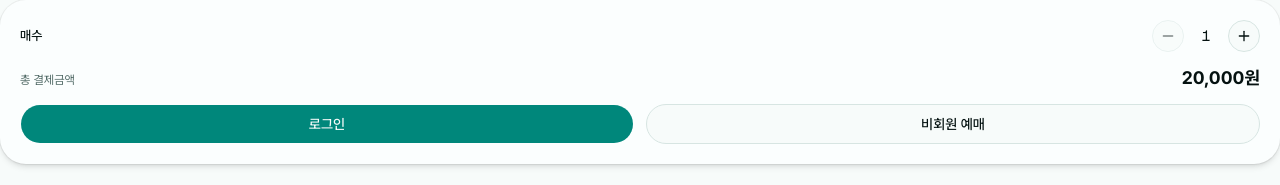
Scenario: BookingForm — 매수 선택(1단계) › 매수를 늘리면 총 결제금액이 갱신된다
Expected: the text "20,000원" is shown, [1182,64,1260,92]
Click the button named "매수 늘리기" at (1244, 36), box [1228,20,1260,52]
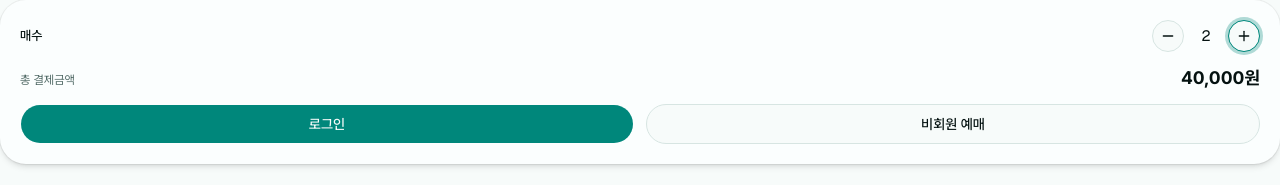
Now the text "40,000원" is shown, box [1181,64,1260,92]
